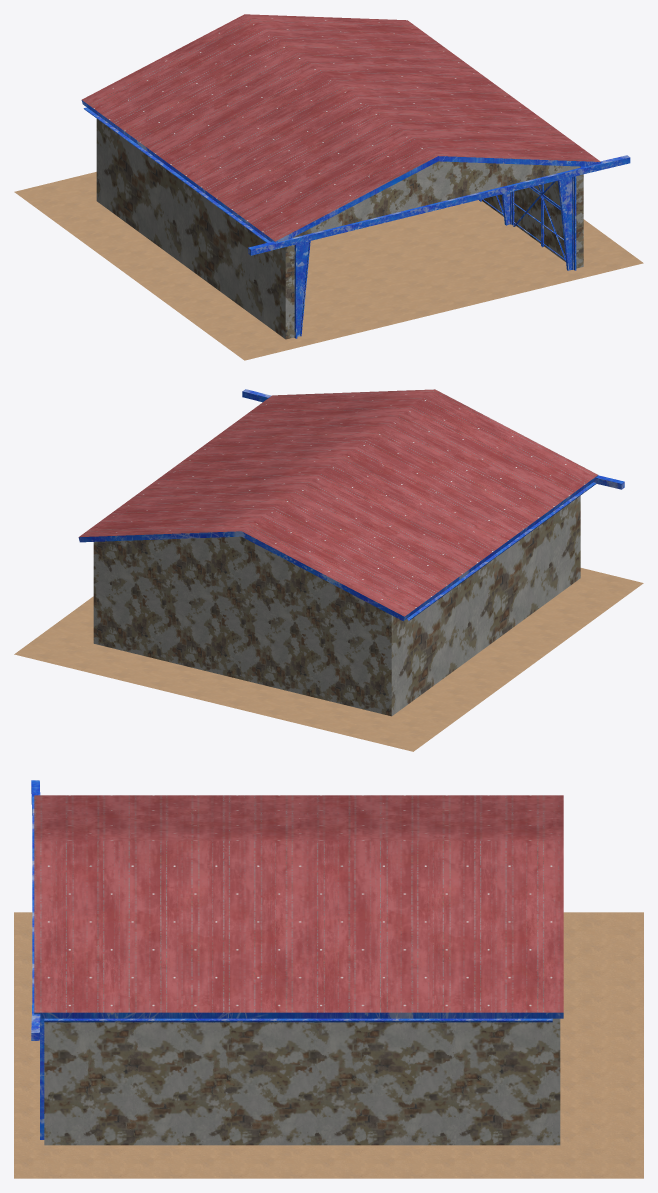
The model's file is Garage.fbx.
3 renders of one model, top to bottom at view 1: azimuth 30°, elevation 25°; view 2: azimuth 150°, elevation 25°; view 3: azimuth 270°, elevation 25°, orthographic. The views are drawn at different scales.
Visible parts, largest first — view 1: Garage, Ground; view 2: Garage, Ground; view 3: Garage, Ground.
Part boxes in pixels (x1,y1,x2,y2): Garage: [81, 14, 630, 339]; Ground: [14, 172, 643, 360]; Garage: [78, 389, 624, 716]; Ground: [14, 568, 643, 751]; Garage: [31, 780, 563, 1145]; Ground: [14, 912, 643, 1178].
Size of the model in its own units: 22.65 by 8.41 by 22.65.
Materials: 4 (4 with a texture image).
